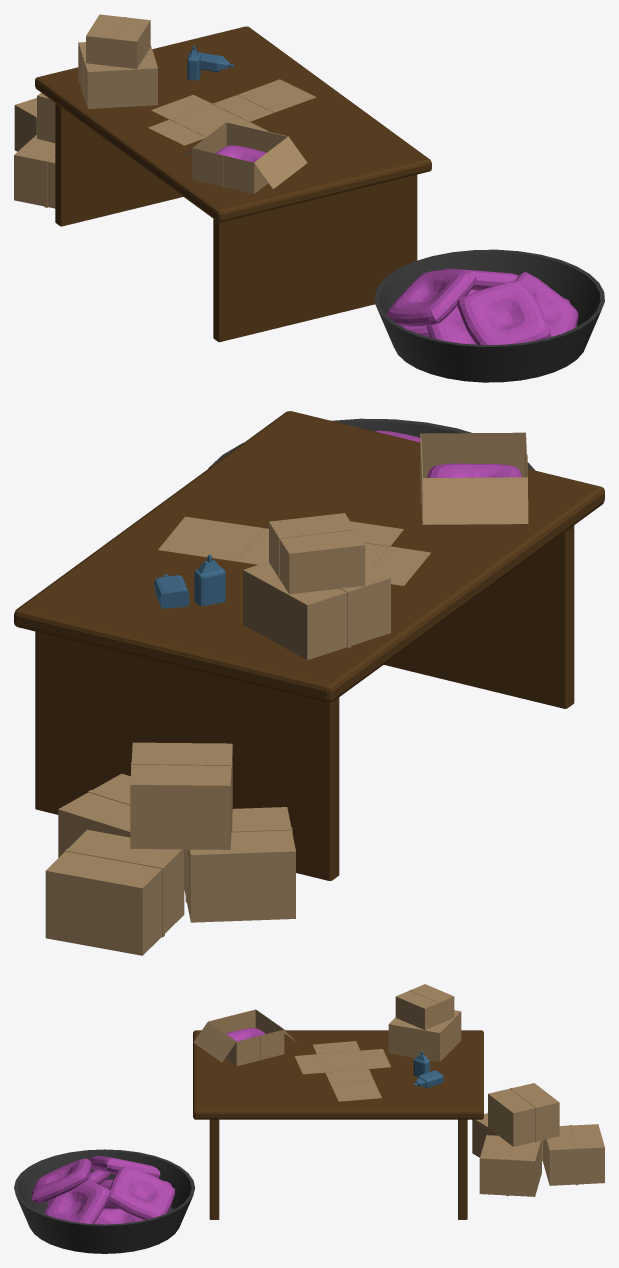
The model's file is boxing table.fbx.
3 views of the same model, one above another, from view 1: azimuth 30°, elevation 25°; view 2: azimuth 150°, elevation 25°; view 3: azimuth 270°, elevation 25° (orthographic). The views are drawn at different scales.
Visible parts, largest first — view 1: Plane.005, Circle.012, Plane.014, Plane.007, Plane.003, Plane.006, Plane.008, Plane.011, Plane.010; view 2: Plane.005, Plane.011, Plane.010, Plane.008, Plane.014, Plane.003, Plane.006, Plane.007, Plane.009, Circle.012, Plane.012, Plane.013; view 3: Plane.005, Circle.012, Plane.010, Plane.014, Plane.007, Plane.011, Plane.009, Plane.003, Plane.006, Plane.008, Plane.013.
Part boxes in pixels (left/top/right/bottom): Plane.005: left=35, top=26, right=431, bottom=342; Circle.012: left=374, top=249, right=604, bottom=382; Plane.014: left=173, top=122, right=307, bottom=193; Plane.007: left=148, top=79, right=316, bottom=145; Plane.003: left=78, top=42, right=157, bottom=108; Plane.006: left=86, top=14, right=150, bottom=68; Plane.008: left=14, top=135, right=55, bottom=208; Plane.011: left=14, top=98, right=36, bottom=151; Plane.010: left=37, top=93, right=55, bottom=143; Plane.005: left=14, top=411, right=604, bottom=880; Plane.011: left=45, top=829, right=184, bottom=955; Plane.010: left=130, top=742, right=232, bottom=849; Plane.008: left=184, top=807, right=295, bottom=922; Plane.014: left=420, top=432, right=528, bottom=524; Plane.003: left=243, top=561, right=390, bottom=659; Plane.006: left=269, top=513, right=365, bottom=594; Plane.007: left=158, top=516, right=430, bottom=585; Plane.009: left=58, top=773, right=130, bottom=857; Circle.012: left=208, top=418, right=535, bottom=470; Plane.012: left=194, top=554, right=225, bottom=606; Plane.013: left=154, top=574, right=189, bottom=608; Plane.005: left=193, top=1030, right=483, bottom=1219; Circle.012: left=14, top=1149, right=195, bottom=1253; Plane.010: left=488, top=1083, right=559, bottom=1146; Plane.014: left=193, top=1009, right=298, bottom=1065; Plane.007: left=294, top=1041, right=390, bottom=1101; Plane.011: left=543, top=1124, right=604, bottom=1185; Plane.009: left=479, top=1135, right=541, bottom=1196; Plane.003: left=388, top=1010, right=461, bottom=1061; Plane.006: left=395, top=984, right=454, bottom=1029; Plane.008: left=472, top=1113, right=542, bottom=1161; Plane.013: left=413, top=1070, right=443, bottom=1088.
Size of the model in its own units: 244 by 155 by 506.
